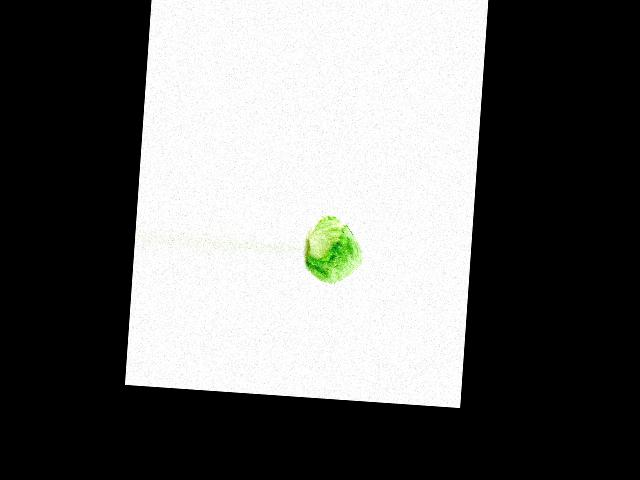lettuce: (304, 214, 367, 288)
